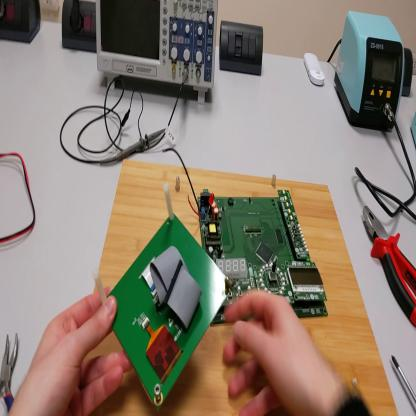hand: (11, 288, 135, 416), (224, 288, 328, 416)
low voltage board: (106, 200, 229, 411)
oscilloscope: (96, 1, 220, 107)
oscilloscope probe tip: (101, 126, 168, 166)
pliers: (364, 206, 416, 327)
screwdriver-: (392, 356, 416, 401)
socket: (61, 1, 99, 55), (2, 2, 43, 46), (401, 50, 414, 97)
welder base: (411, 113, 415, 147)
welder station: (336, 8, 405, 136)
working area: (83, 160, 399, 416)
